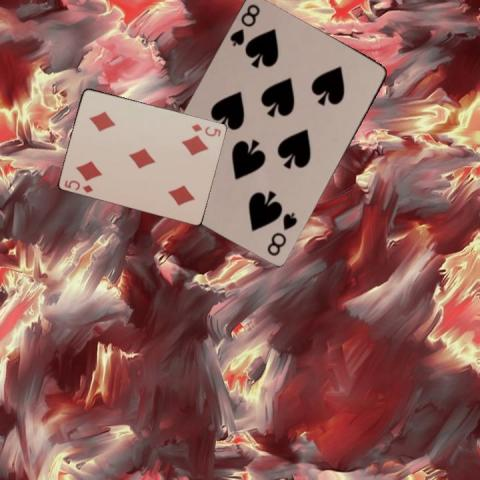5d: (188, 121, 223, 138), (61, 177, 95, 194)
8s: (264, 209, 299, 258), (227, 1, 262, 49)
